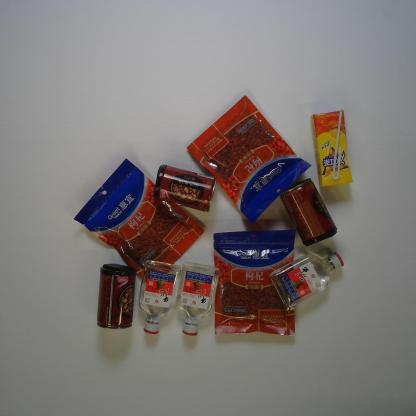Alcohol: (268, 250, 344, 306), (138, 257, 183, 335), (175, 260, 220, 338)
Canned Food: (279, 175, 338, 245), (153, 162, 217, 213), (95, 262, 137, 330)
Dried Fruit: (186, 94, 312, 226), (72, 158, 205, 283), (210, 229, 297, 339)
Drink: (312, 108, 356, 189)
